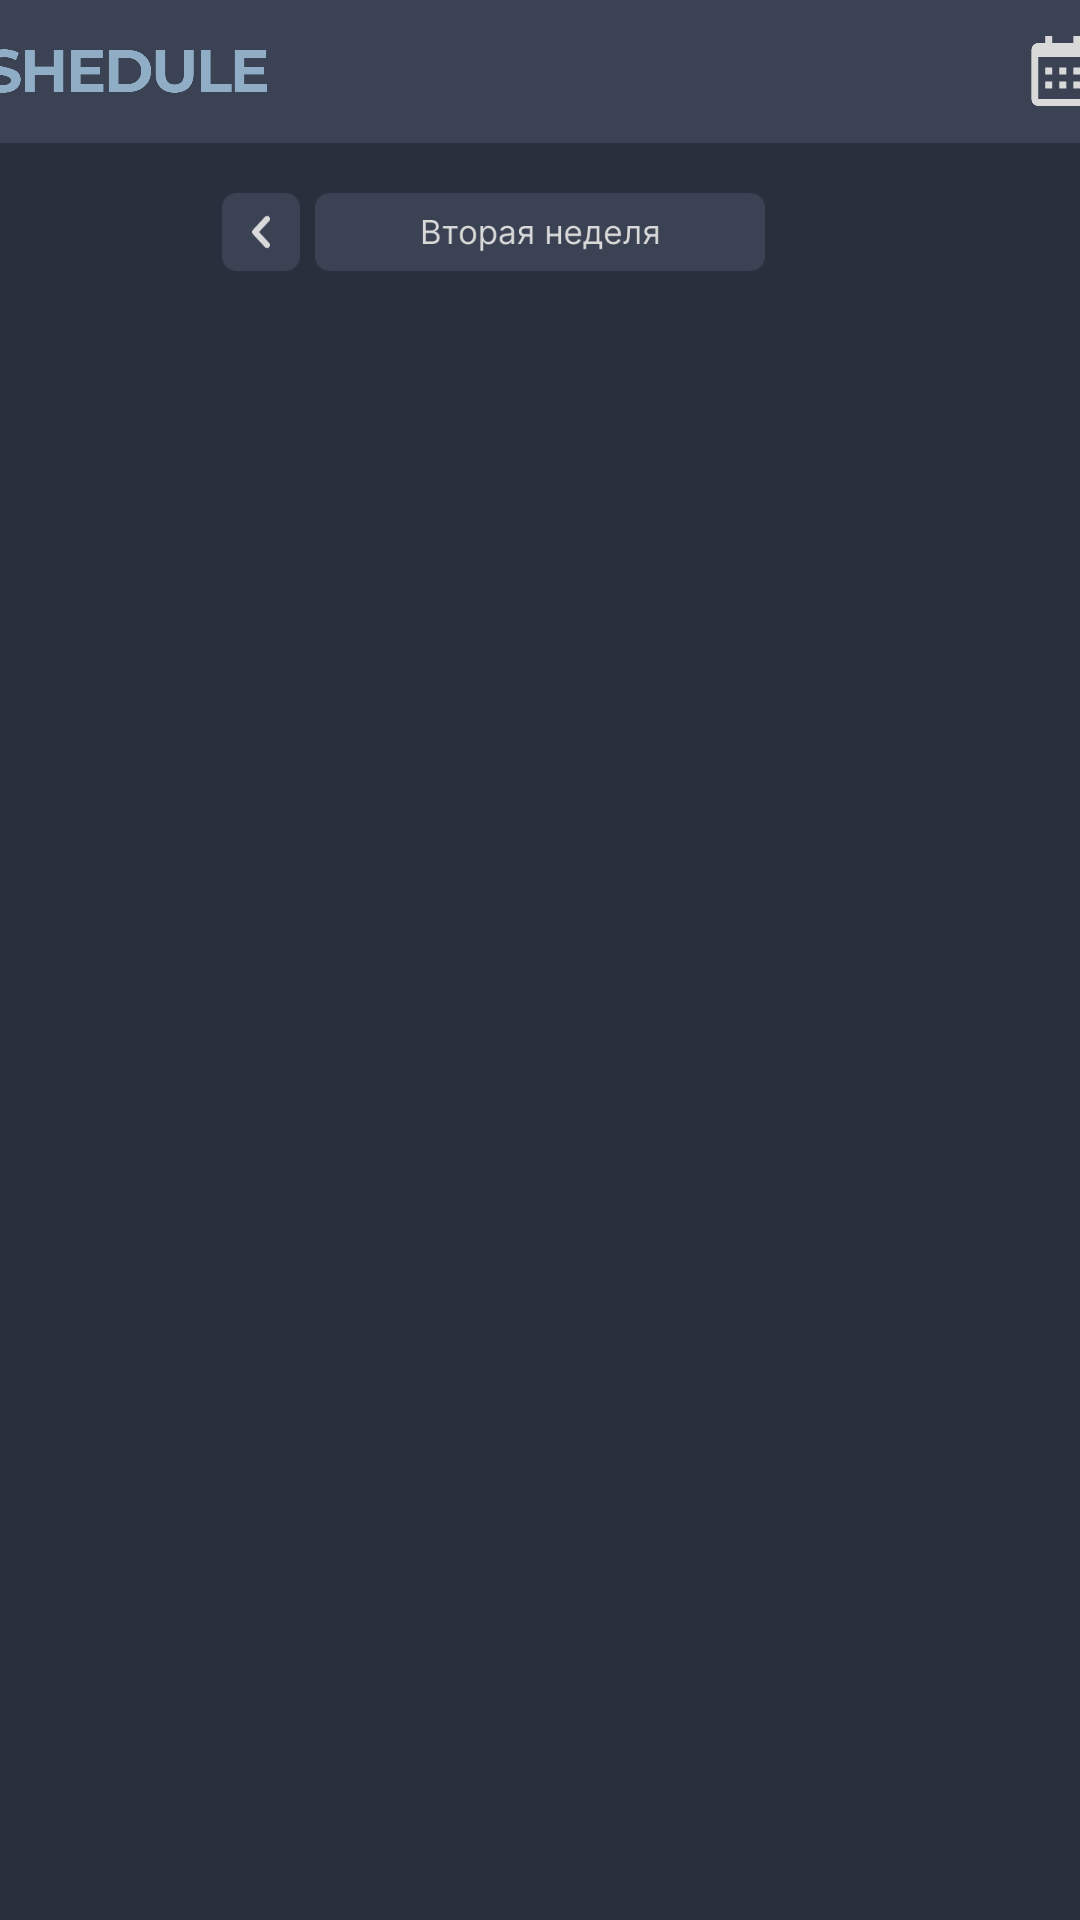

Screen size 1080×1920. Icon name, then its center in pixels as (x=x, y=y):
arrow first week: (x=261, y=232)
